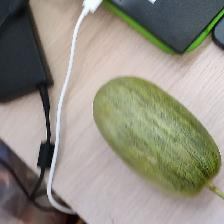gua: (96, 75, 218, 195)
